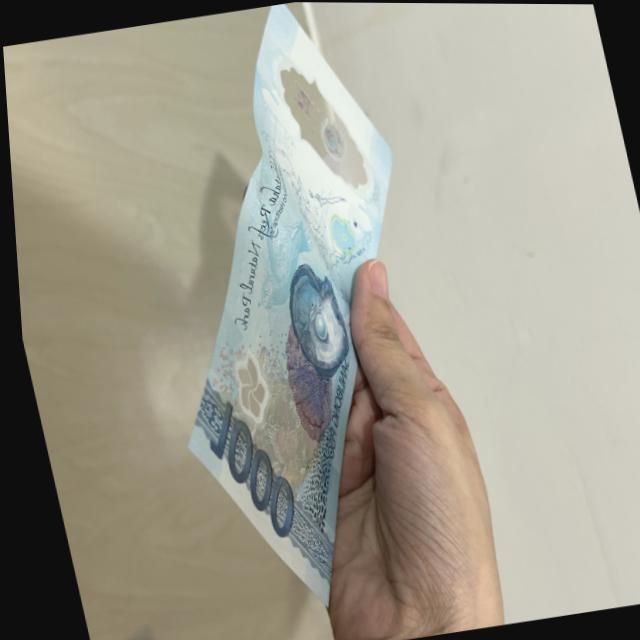clear_window: (265, 44, 375, 205)
sampaguita: (220, 346, 267, 425)
value: (196, 400, 295, 551)
